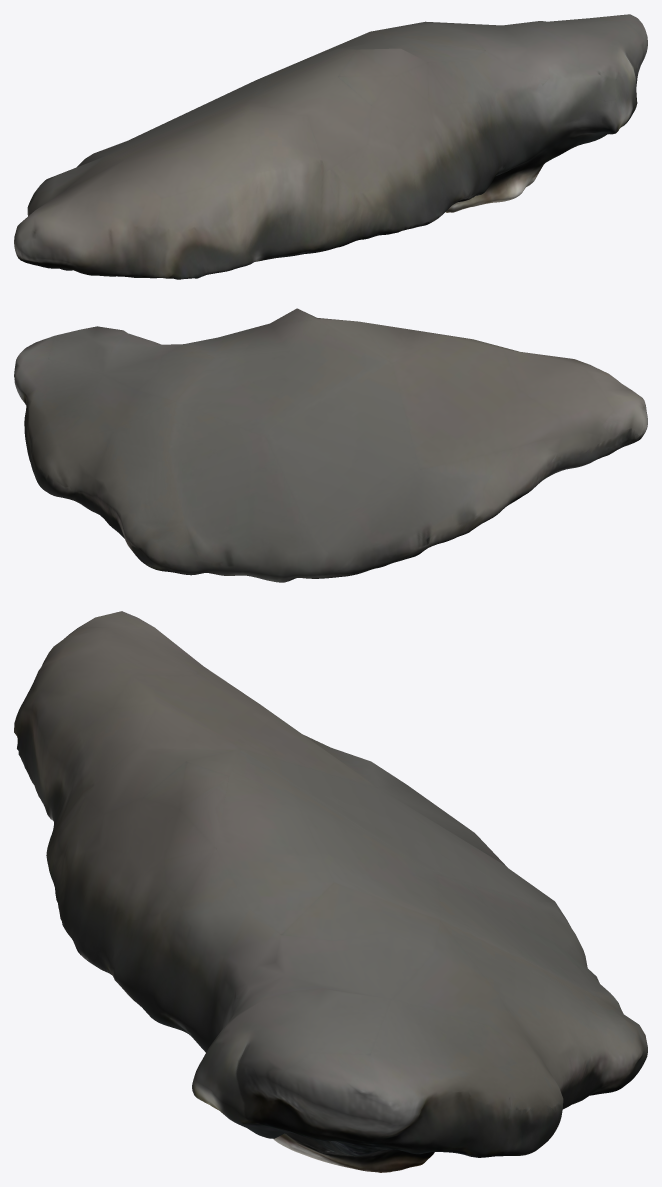
The picture shows the model from 3 angles, top to bottom: view 1: azimuth 30°, elevation 25°; view 2: azimuth 150°, elevation 25°; view 3: azimuth 270°, elevation 25°; orthographic projection. The views are drawn at different scales.
Bounding box in the file's own units: 0.7106 × 0.2143 × 0.4348.
1 material, 1 textured.
